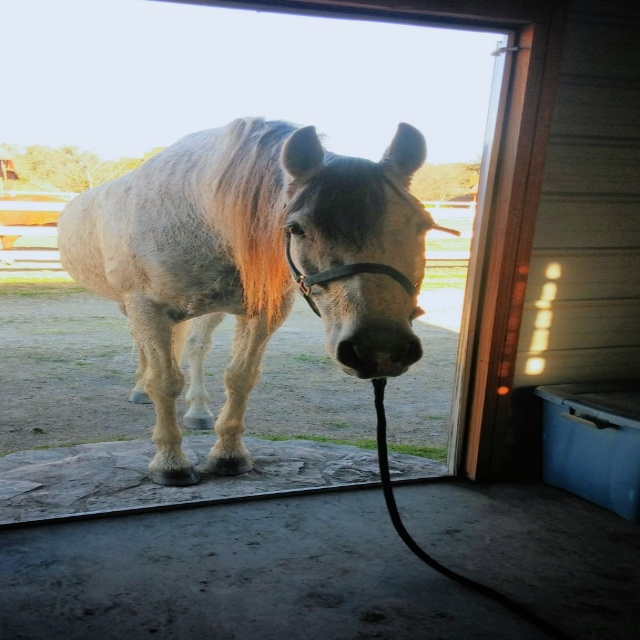Horse: (54, 117, 439, 485)
